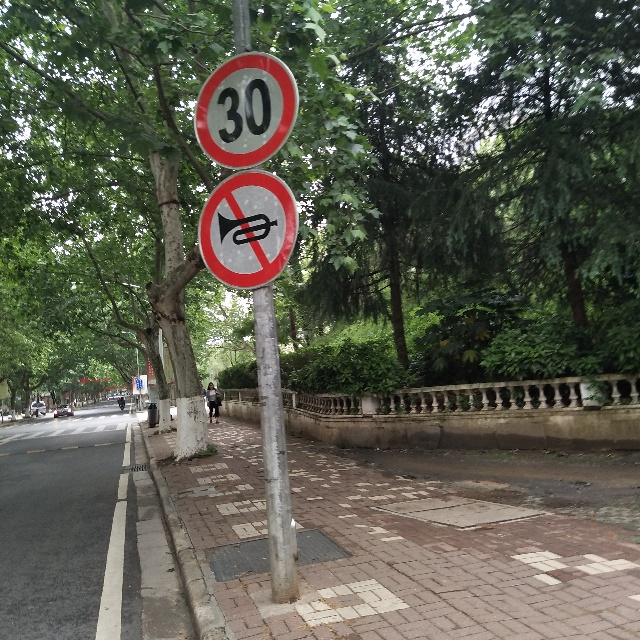nohonk: (210, 184, 291, 285)
